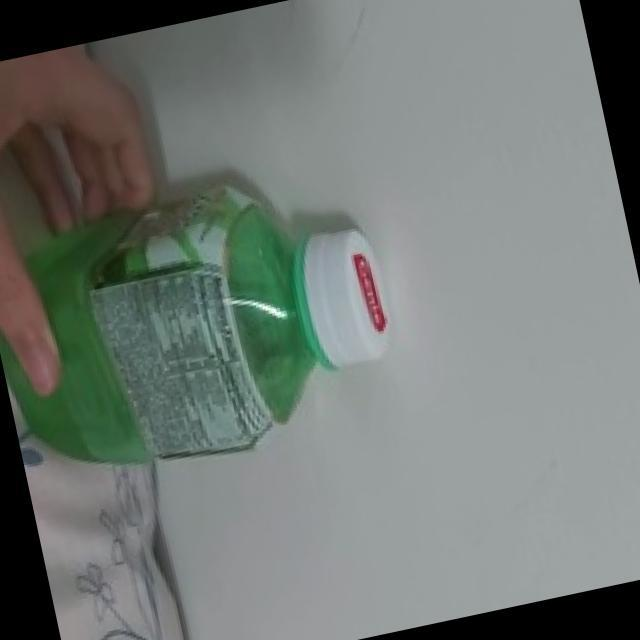good: (0, 139, 425, 516)
